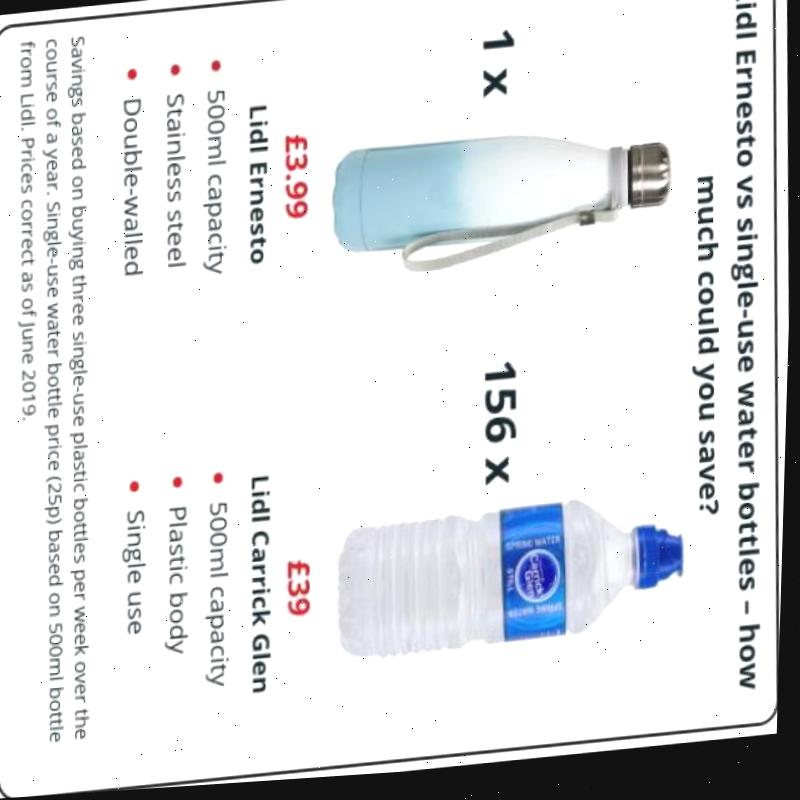botella: (337, 497, 691, 664)
